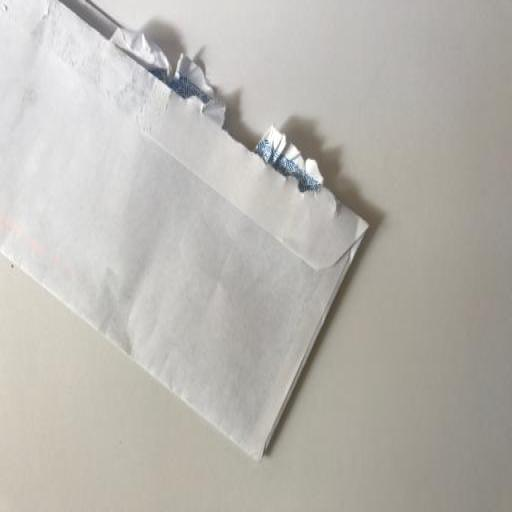waste: (0, 1, 378, 473)
